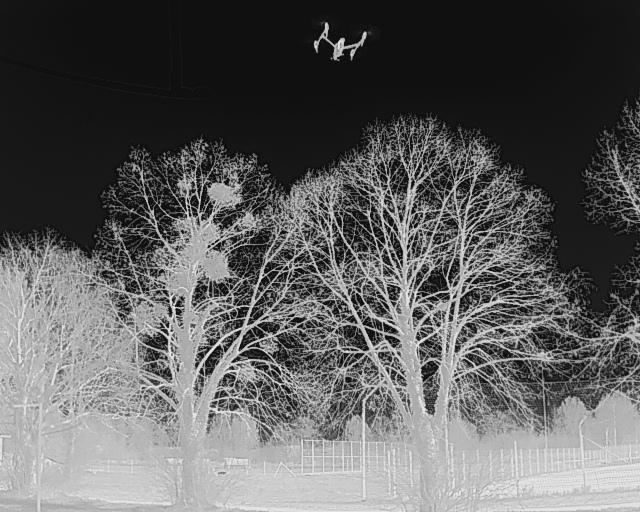drone: (304, 16, 372, 80)
